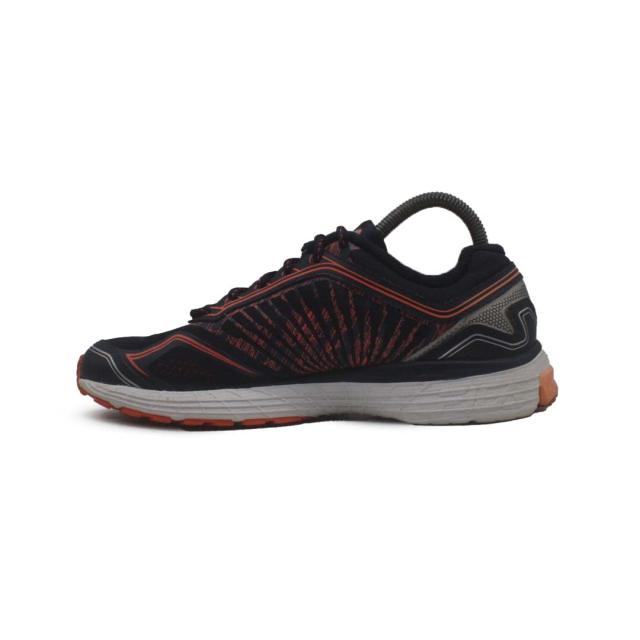heel: (457, 247, 535, 371)
midsole: (77, 351, 562, 424)
uppersole: (77, 218, 465, 388)
